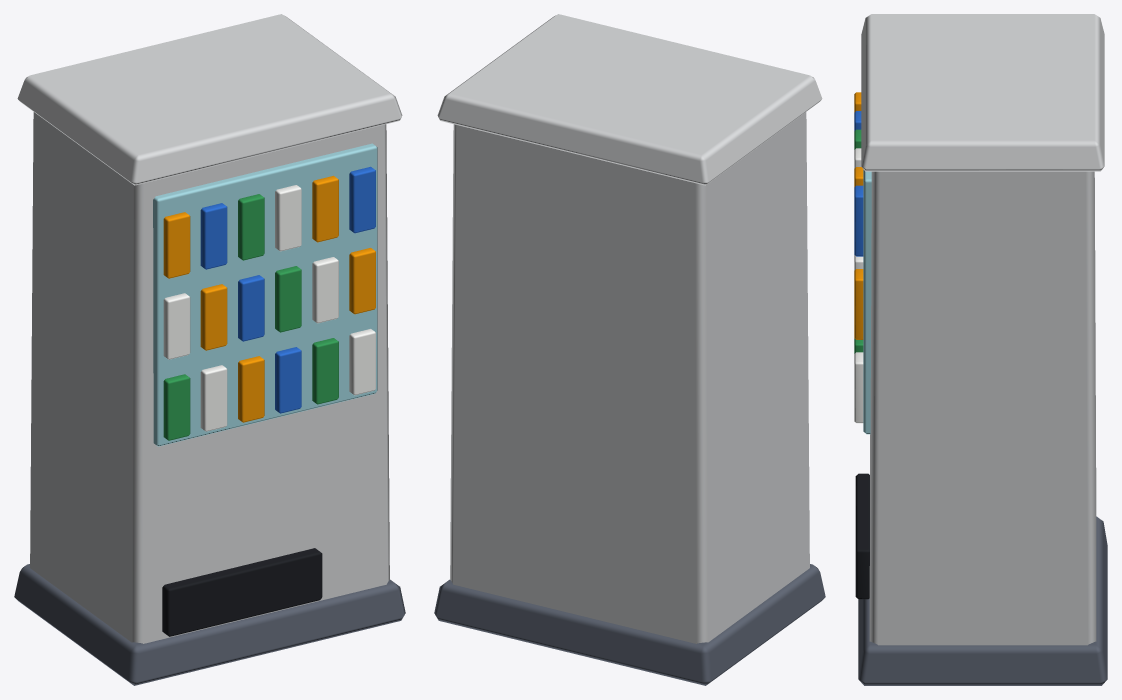
Rendered from vending_machine_white.glb.
The picture shows the model from 3 angles, left to right: view 1: azimuth 30°, elevation 25°; view 2: azimuth 150°, elevation 25°; view 3: azimuth 270°, elevation 25°; orthographic projection. The views are drawn at different scales.
Parts seen in each view (by area): view 1: vending_machine_white; view 2: vending_machine_white; view 3: vending_machine_white.
Boxes of the visible parts, bbox=[...] form: vending_machine_white: bbox=[14, 14, 405, 685]; vending_machine_white: bbox=[434, 14, 825, 685]; vending_machine_white: bbox=[854, 14, 1107, 685].
Size of the model in its own units: 1.07 by 1.95 by 0.8268.
